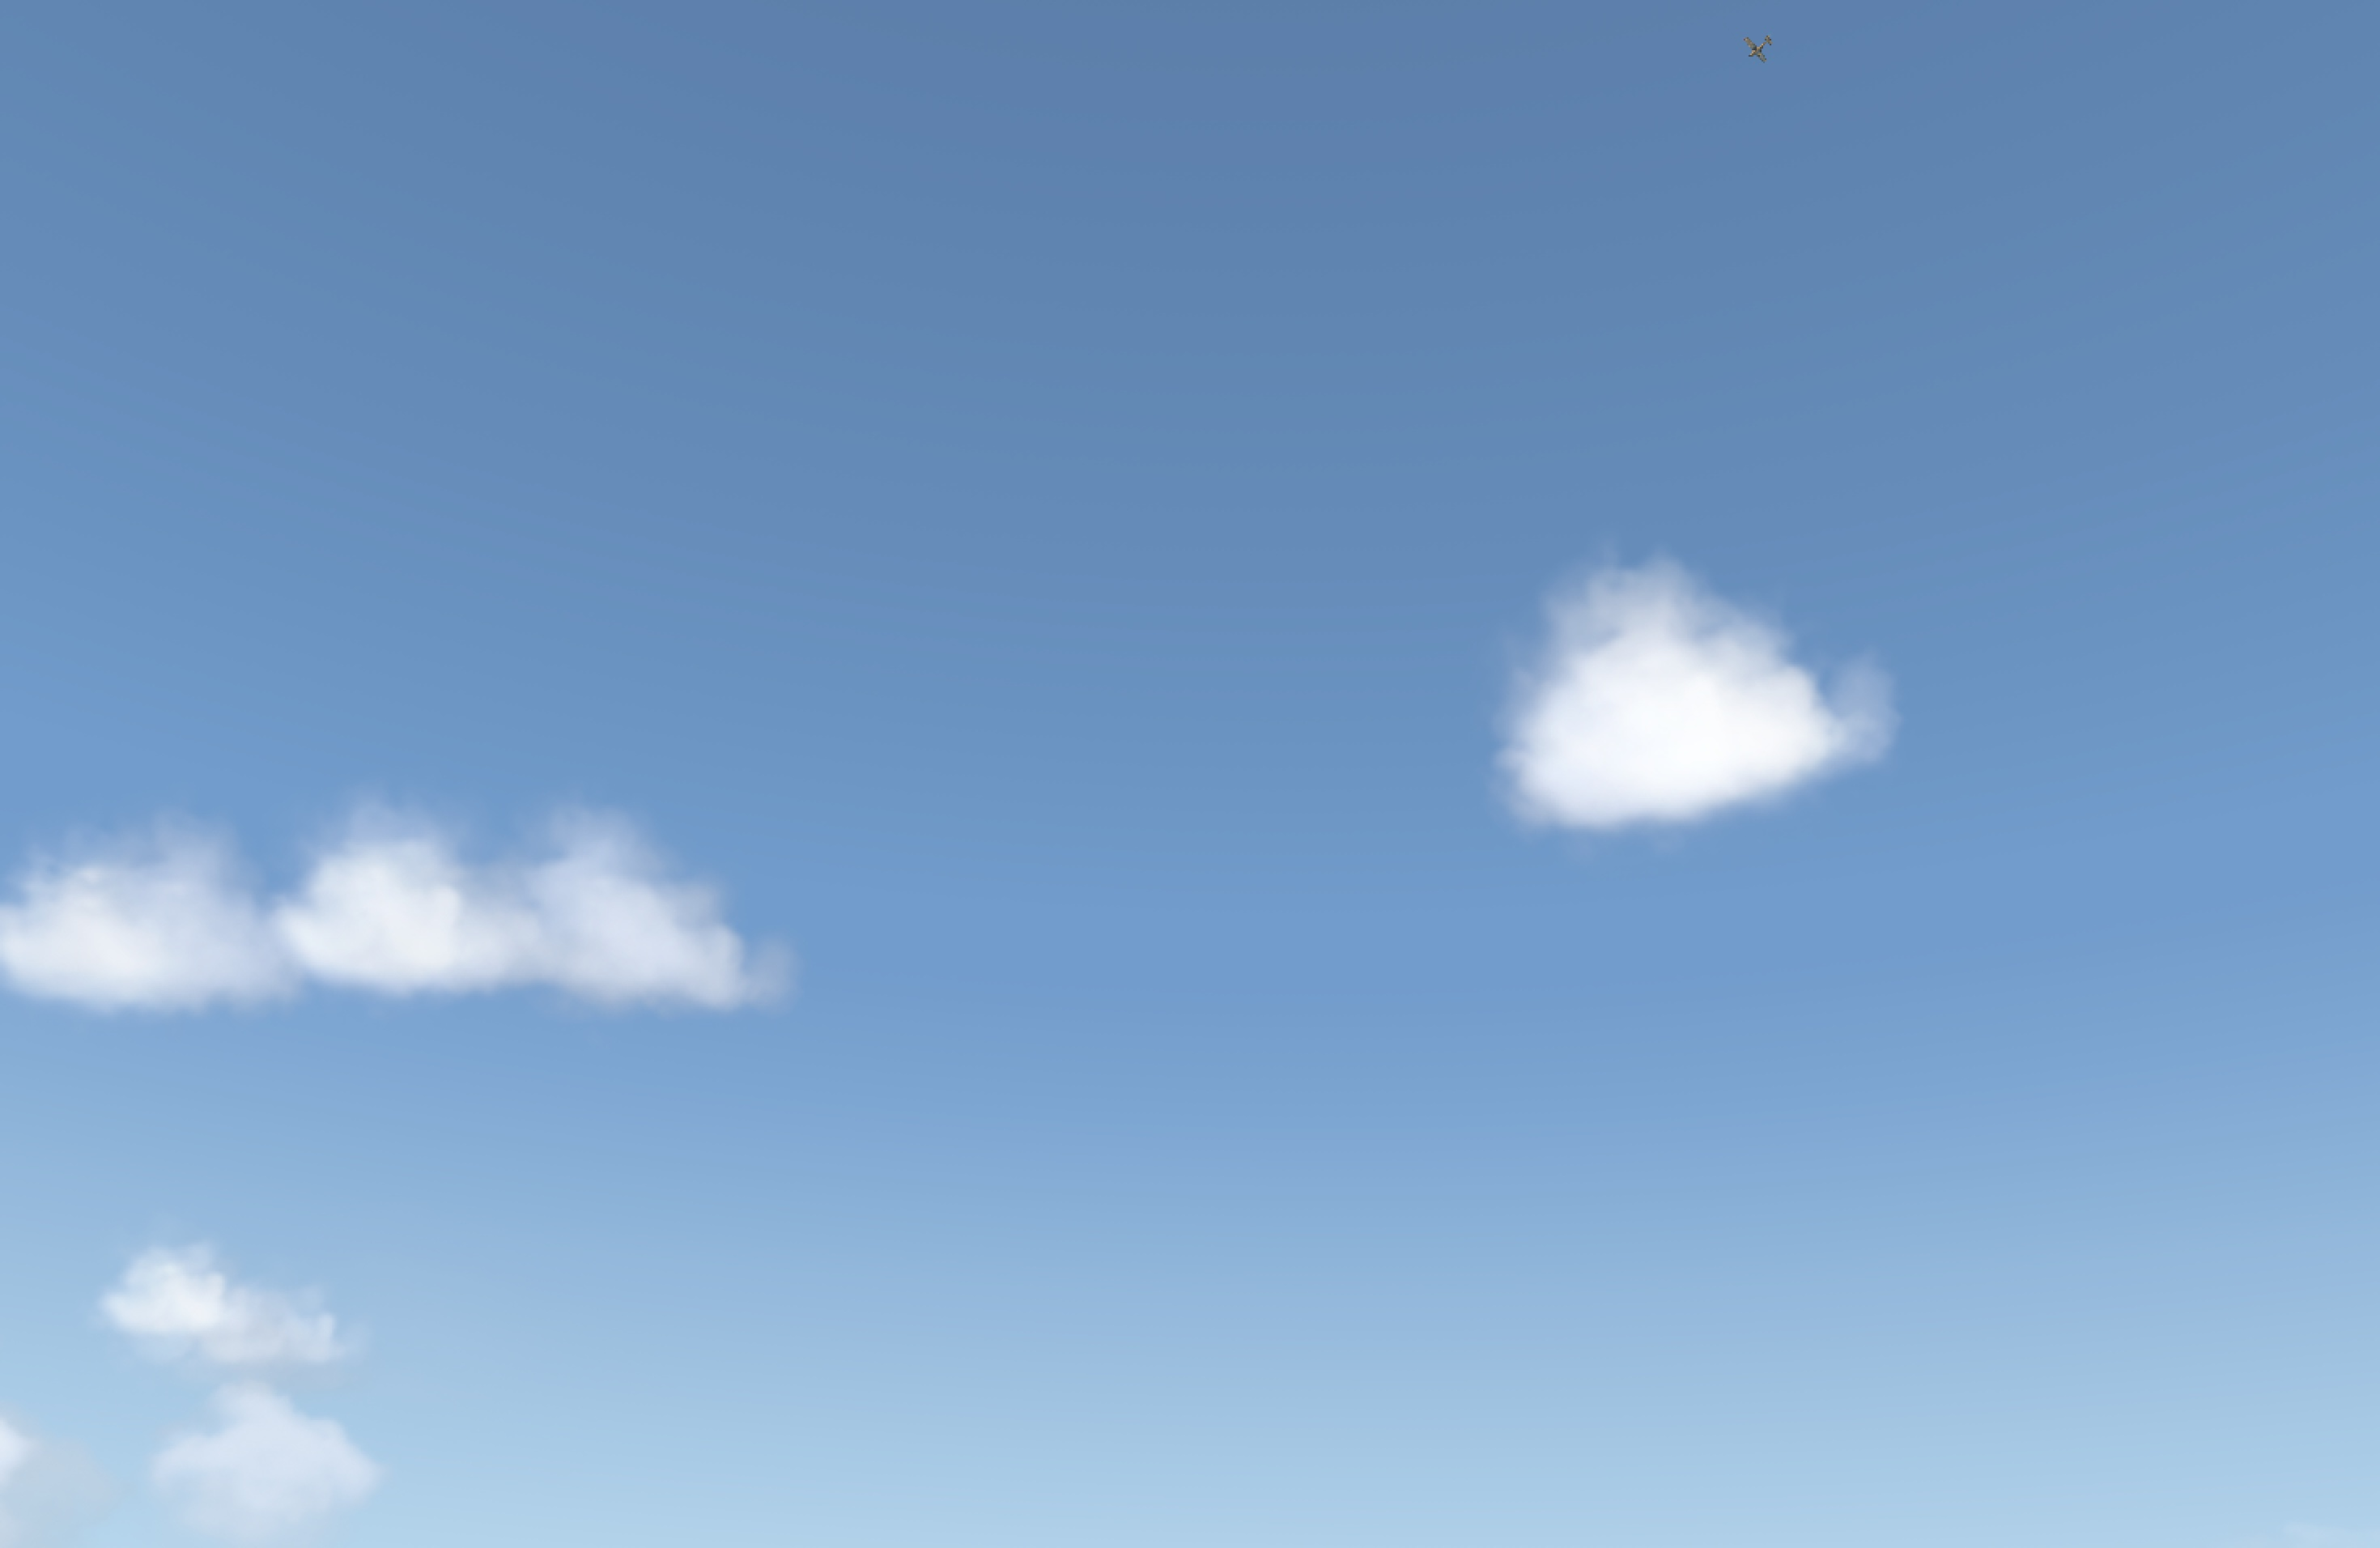aircraft: (1743, 47, 1768, 56)
